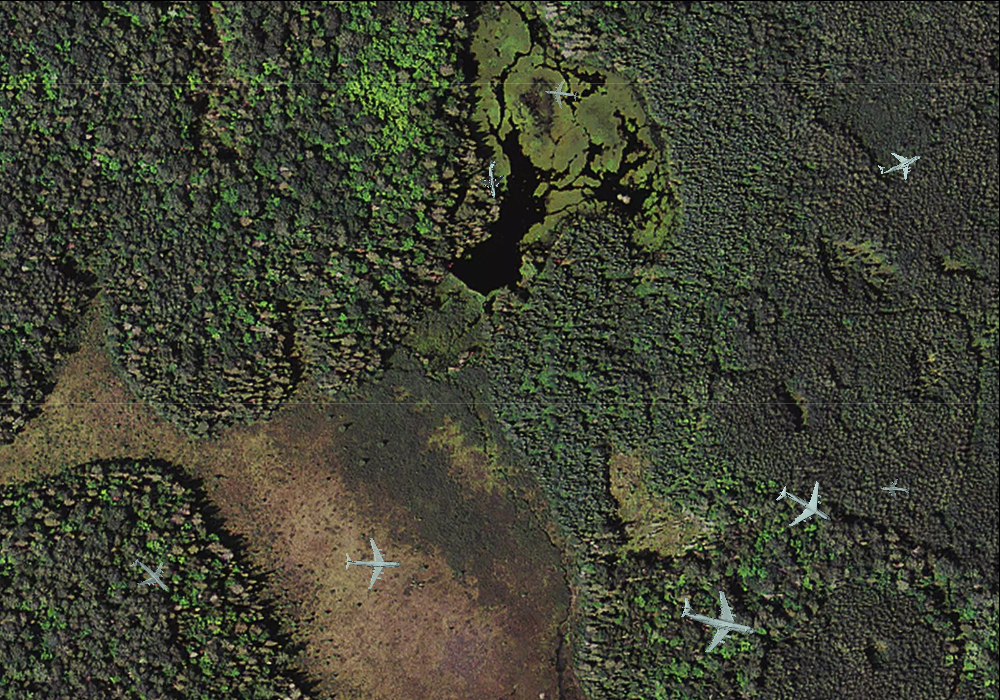plane: (672, 576, 765, 664), (765, 466, 846, 546), (120, 546, 180, 606), (343, 535, 401, 591), (872, 136, 928, 190), (475, 158, 511, 200), (543, 76, 579, 111), (880, 477, 910, 504)
